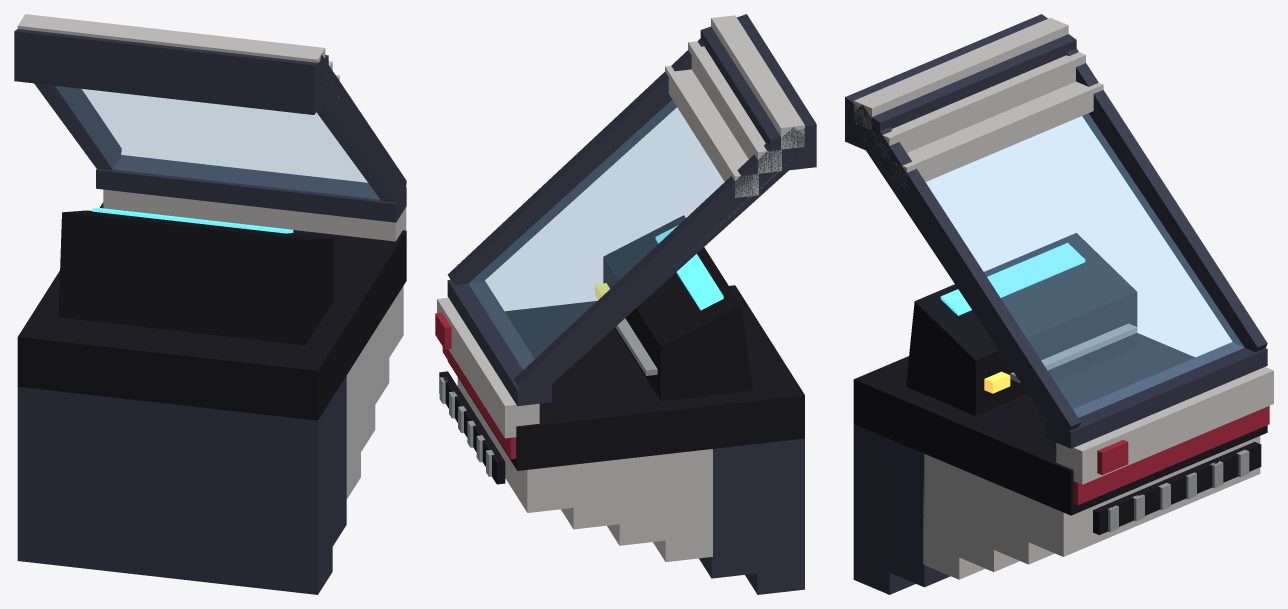
File: canopy.slope1.deck.glb
3 views of the same model, side by side, from view 1: azimuth 30°, elevation 25°; view 2: azimuth 150°, elevation 25°; view 3: azimuth 270°, elevation 25° (orthographic). The views are drawn at different scales.
Parts seen in each view (by area): view 1: canopy.slope1.deck; view 2: canopy.slope1.deck; view 3: canopy.slope1.deck.
Part boxes in pixels (left/top/right/bottom): canopy.slope1.deck: left=14, top=14, right=406, bottom=594; canopy.slope1.deck: left=435, top=14, right=816, bottom=594; canopy.slope1.deck: left=845, top=14, right=1273, bottom=594.
Size of the model in its own units: 2.18 by 2.69 by 2.18.
